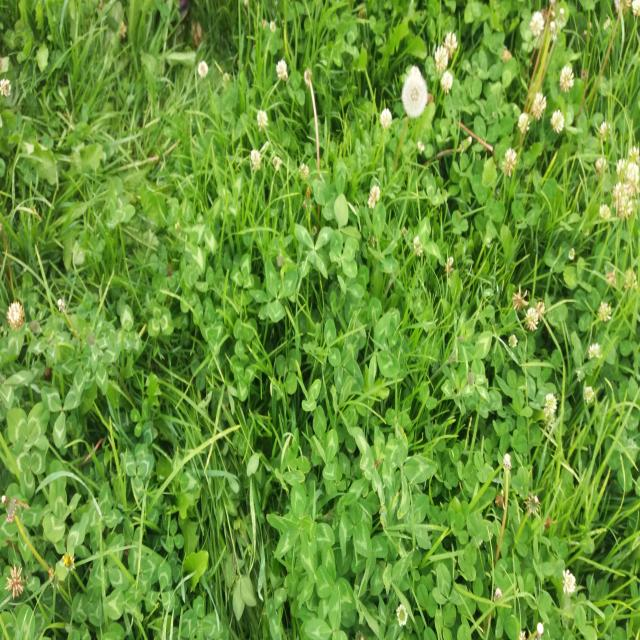Four Leaf Clover: (266, 513, 317, 583), (294, 222, 328, 279), (331, 229, 359, 277)
